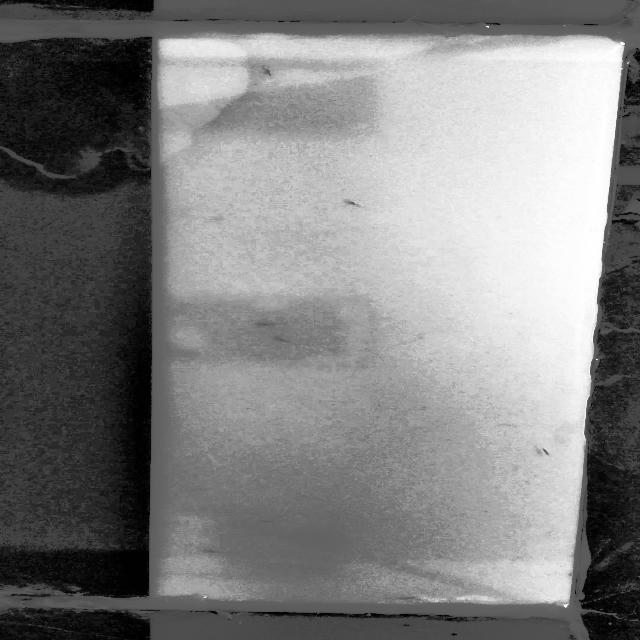shrimp: (200, 542, 238, 558), (339, 198, 371, 214), (385, 591, 427, 603), (270, 332, 298, 348), (538, 441, 560, 459), (253, 515, 287, 526), (253, 319, 284, 330), (257, 64, 277, 79)
